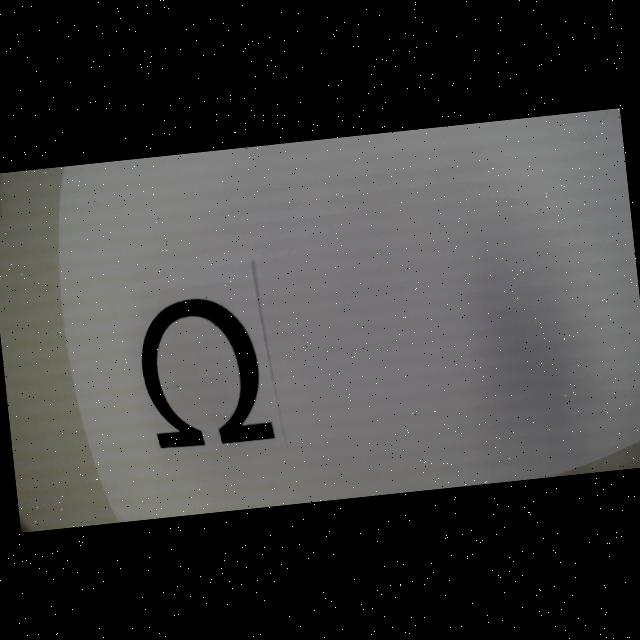OMEGA: (134, 292, 275, 452)
